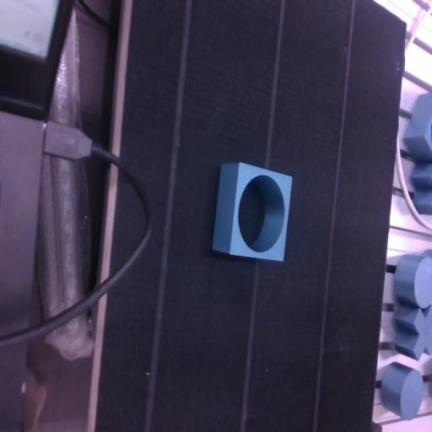hole: (213, 163, 291, 260)
